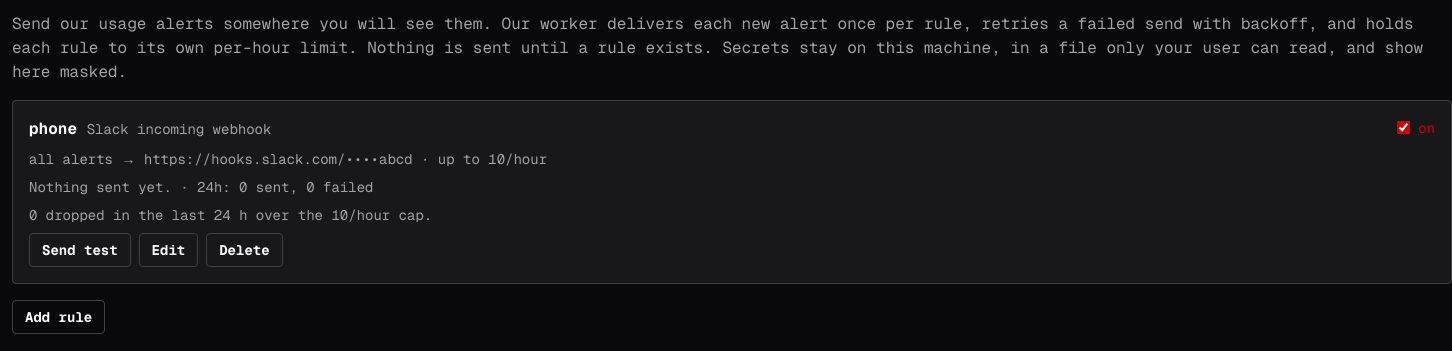
AlertDelivery › sends a test and shows what came back
Click the button "Send test": (80, 250) [29, 233, 131, 267]
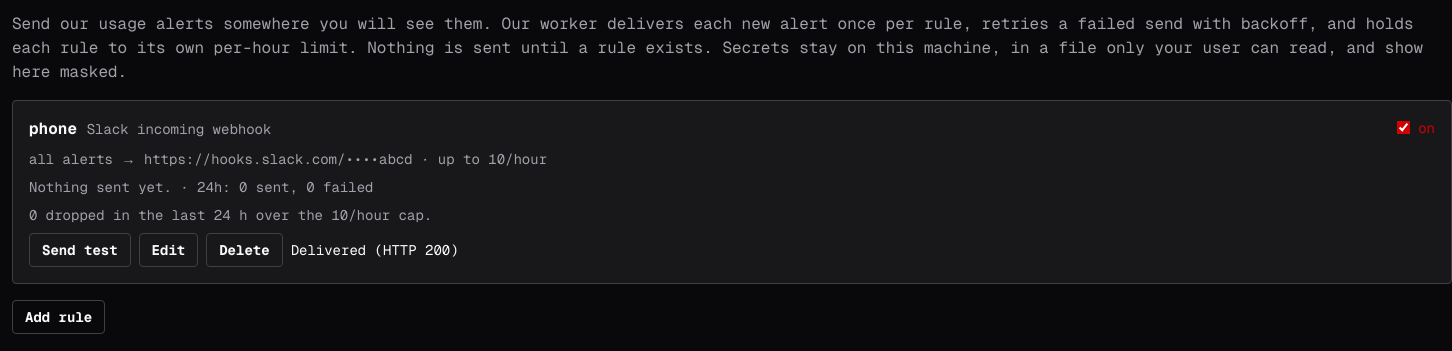
expect the text with test id "1" reads "Delivered (HTTP 200)": met, box [291, 241, 459, 259]
